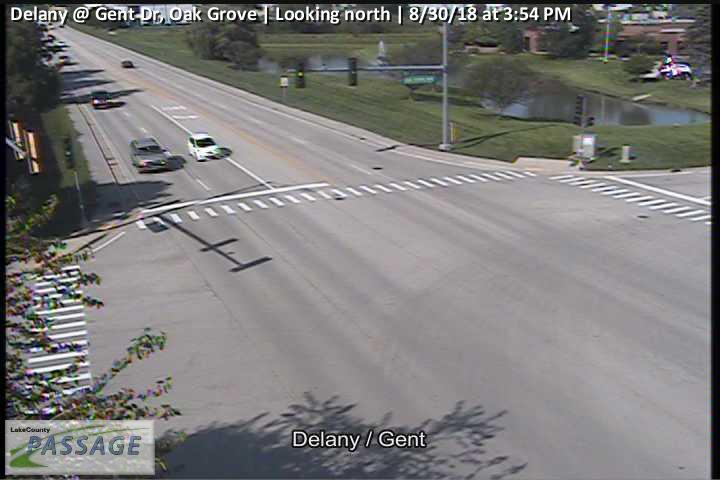SUV: (130, 137, 167, 172), (187, 132, 219, 161), (91, 91, 109, 108), (122, 60, 133, 68)
